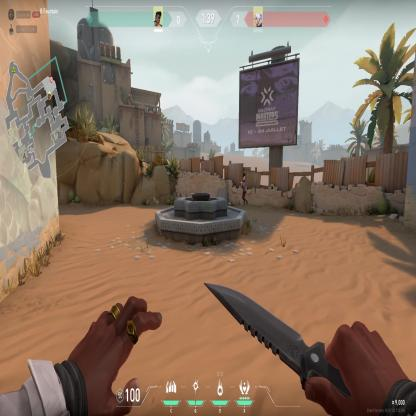enemy: (240, 175, 249, 209)
